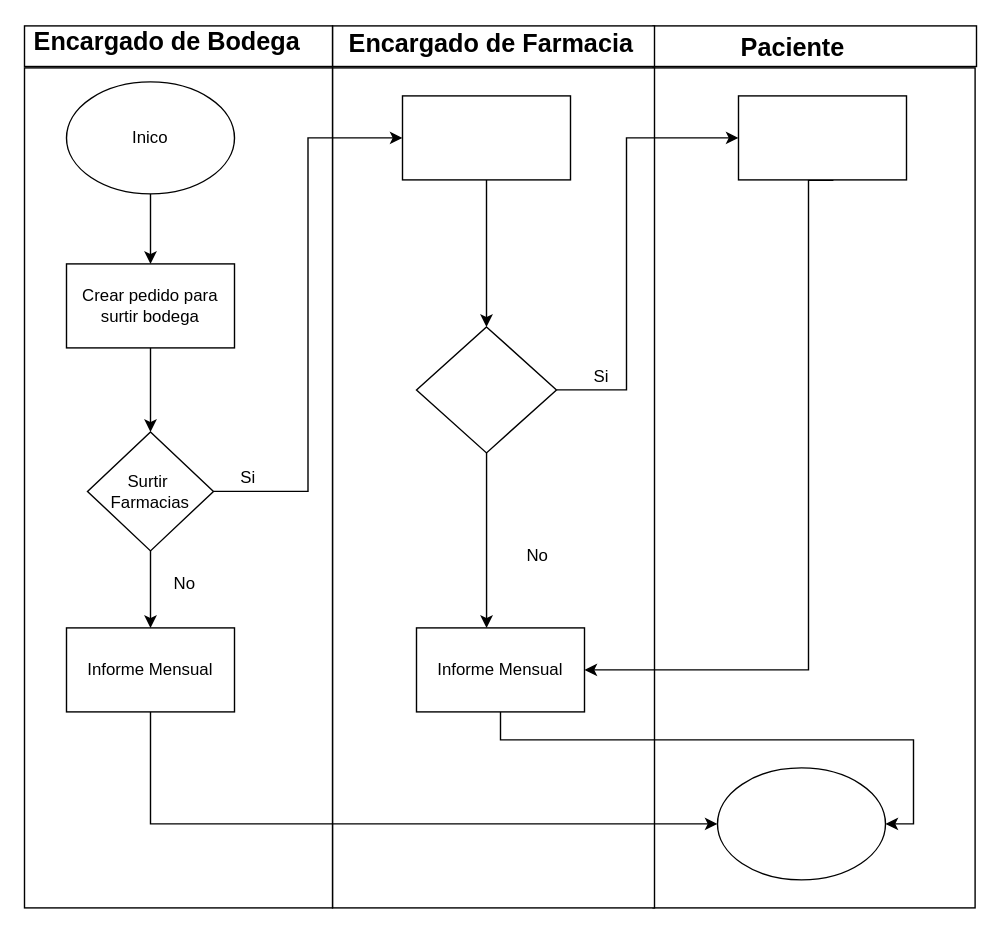
Image size: 1001x932. Some labels were removed from this diagram. Each missing label, with the centre of its shape:
"Crear Pedido para surtir farmacias" belongs at point (485, 137).
"Entregar medicamento" belongs at point (485, 389).
"Fin" belongs at point (801, 823).
"Presentar receta" belongs at point (821, 137).
